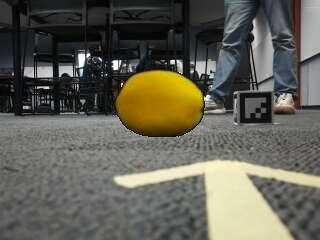lemon: (114, 70, 202, 136)
